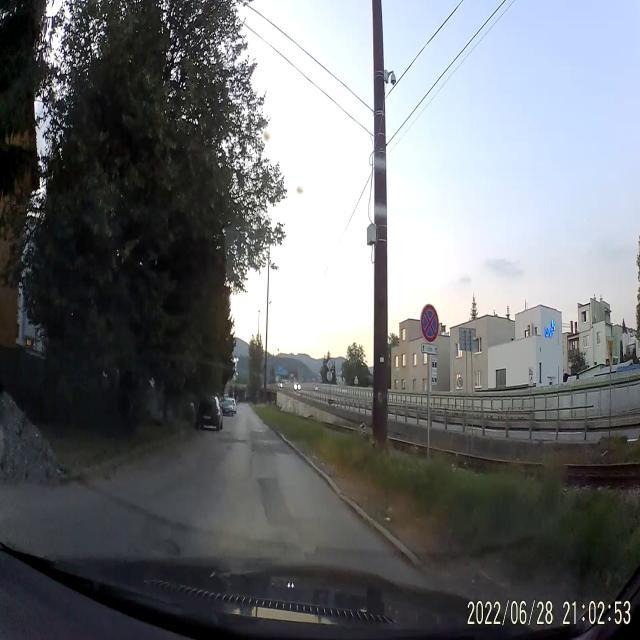Pothole: (152, 532, 188, 561)
